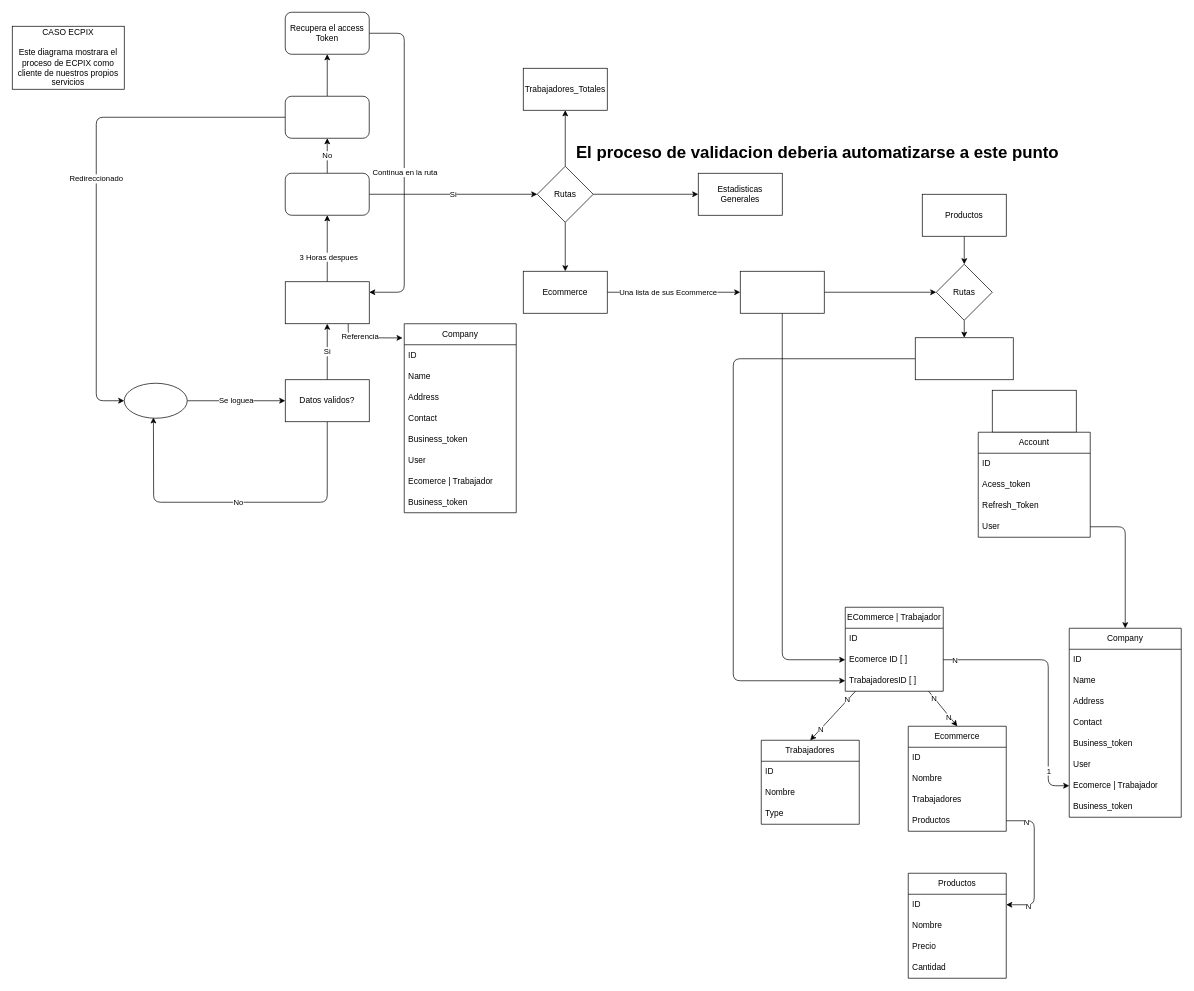
Some shapes in this 1194 by 991 pixel diagram are drawn without their labels. The centre of each missing label's shape, as x and y in pixels:
"Dashboard" belongs at point (327, 302).
"Ecpix" belongs at point (1034, 411).
"ECPIX Tienda" belongs at point (782, 292).
"Login" belongs at point (155, 400).
"Tiene un Refresh_Token valido?" belongs at point (327, 117).
"Trabajadores en la tienda" belongs at point (964, 358).
"¿Tiene un Access_Token Valido?" belongs at point (327, 194).
